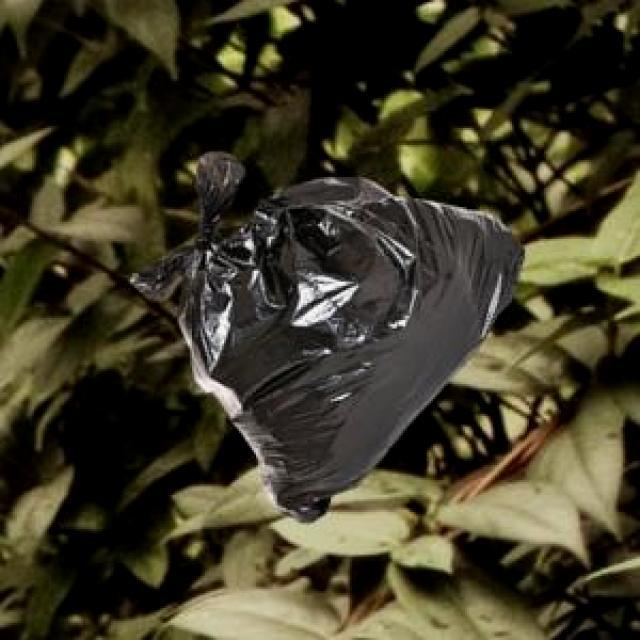Trashbag: (126, 146, 528, 532)
